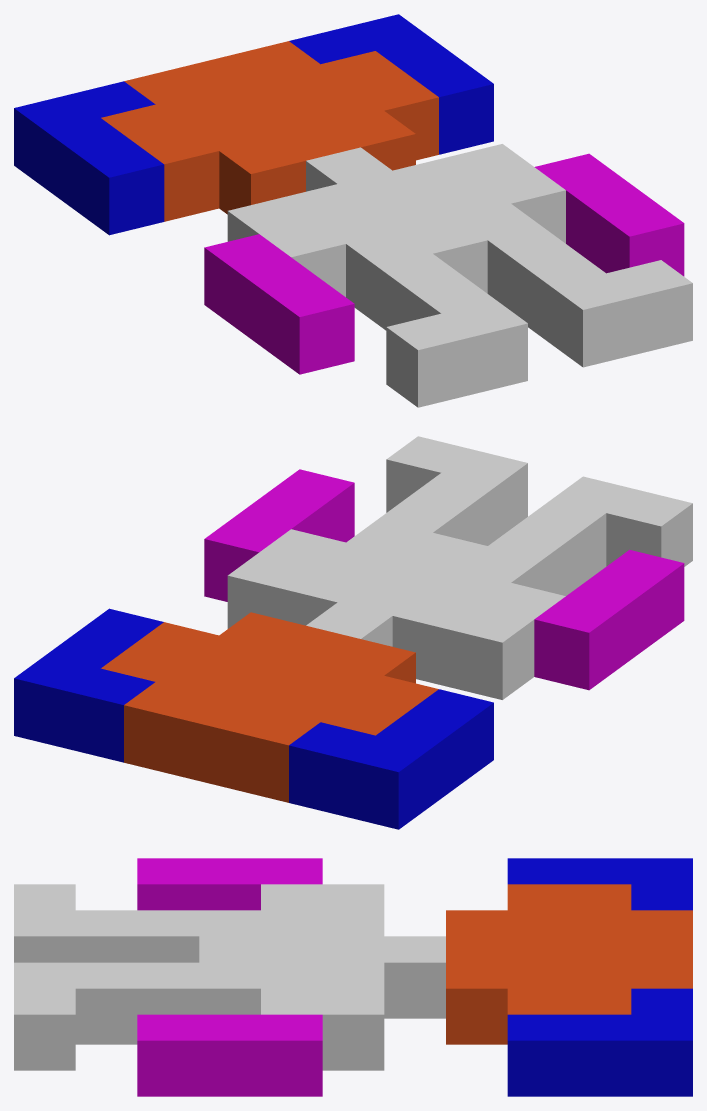
File: Hunter.fbx
The picture shows the model from 3 angles, top to bottom: view 1: azimuth 30°, elevation 25°; view 2: azimuth 150°, elevation 25°; view 3: azimuth 270°, elevation 25°; orthographic projection. The views are drawn at different scales.
Parts seen in each view (by area): view 1: Hunter; view 2: Hunter; view 3: Hunter.
Boxes of the visible parts, bbox=[...] form: Hunter: bbox=[14, 14, 692, 407]; Hunter: bbox=[14, 436, 692, 829]; Hunter: bbox=[14, 858, 692, 1096].
Bounding box in the file's own units: 7000 × 1000 × 11000.
